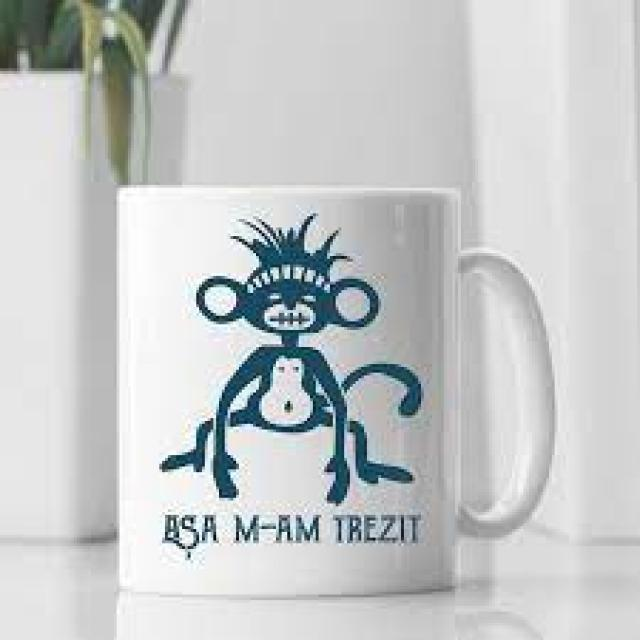taza: (101, 170, 558, 606)
